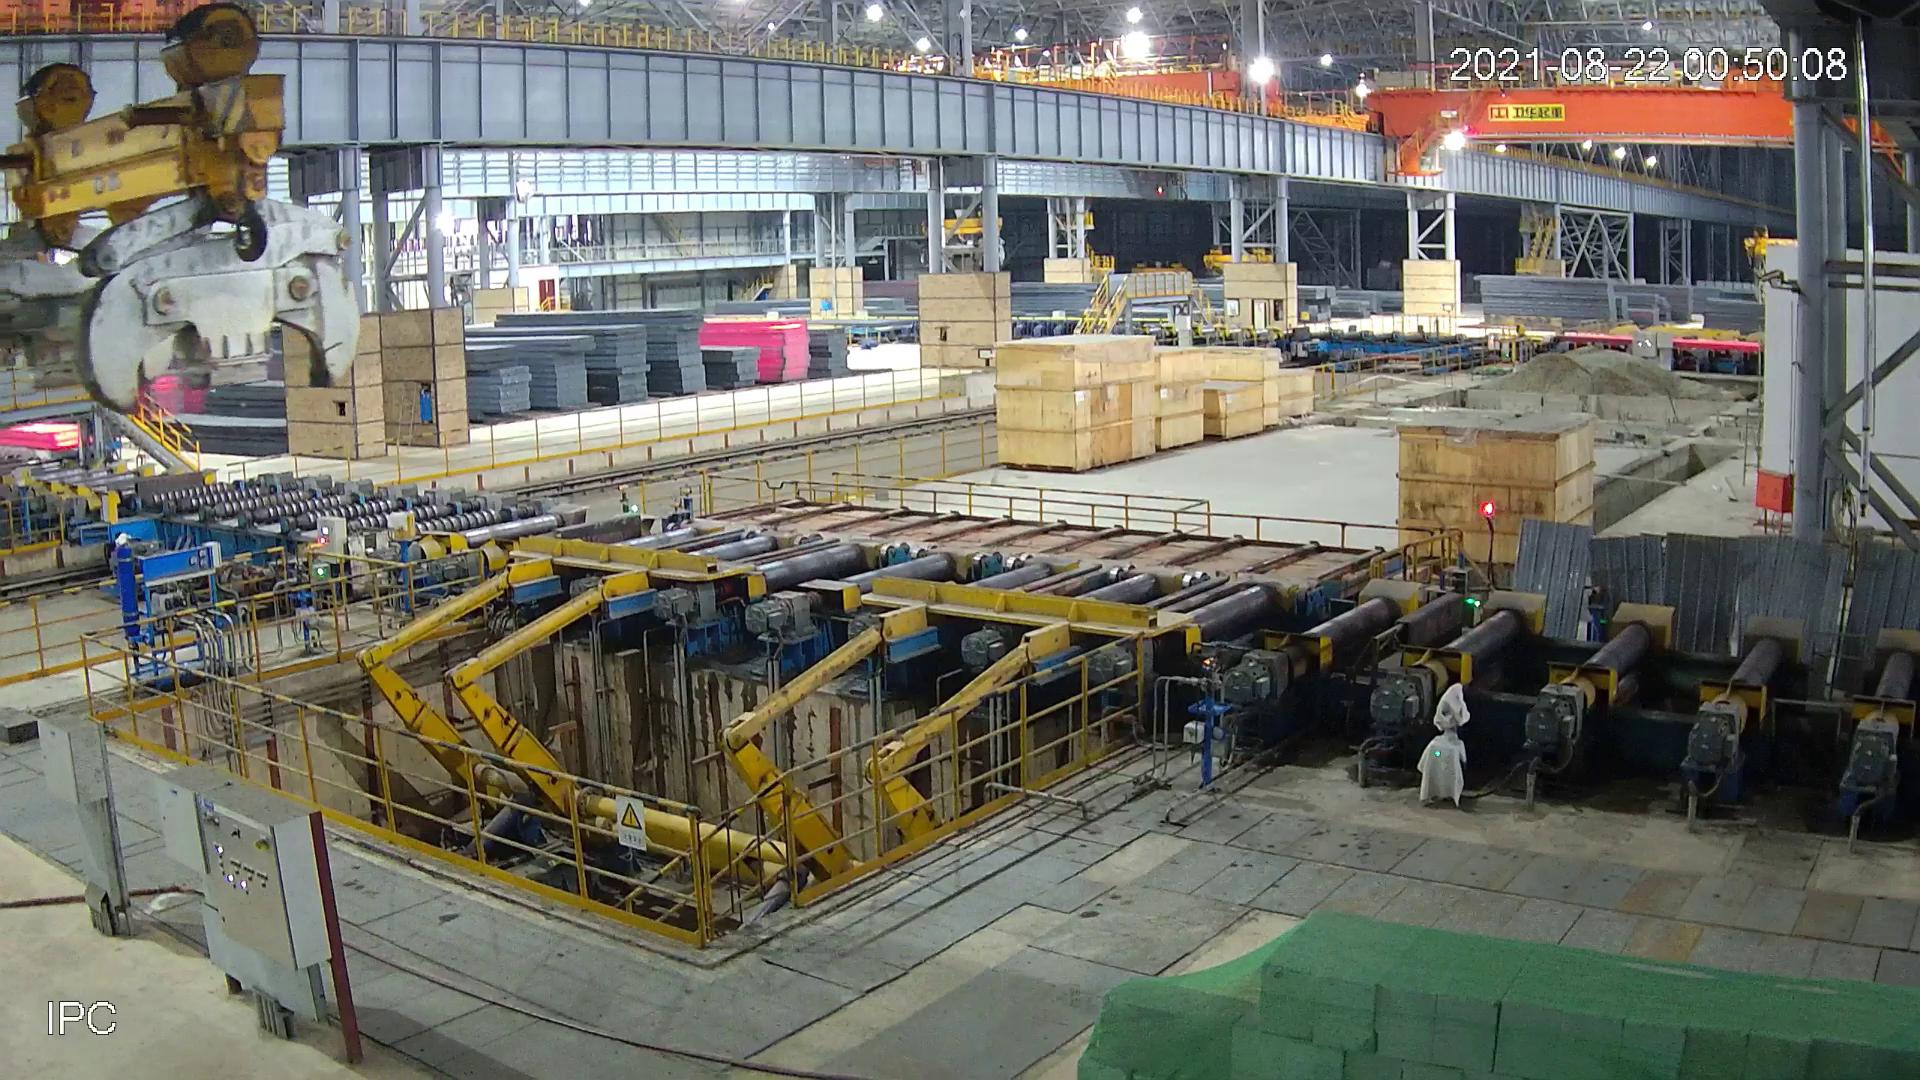slab: (116, 767, 1022, 858)
